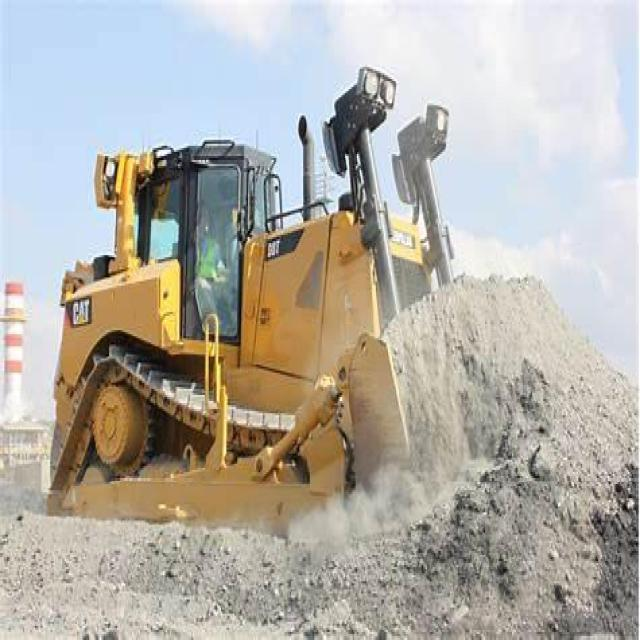buldozerpayloadergrader: (21, 99, 597, 582)
